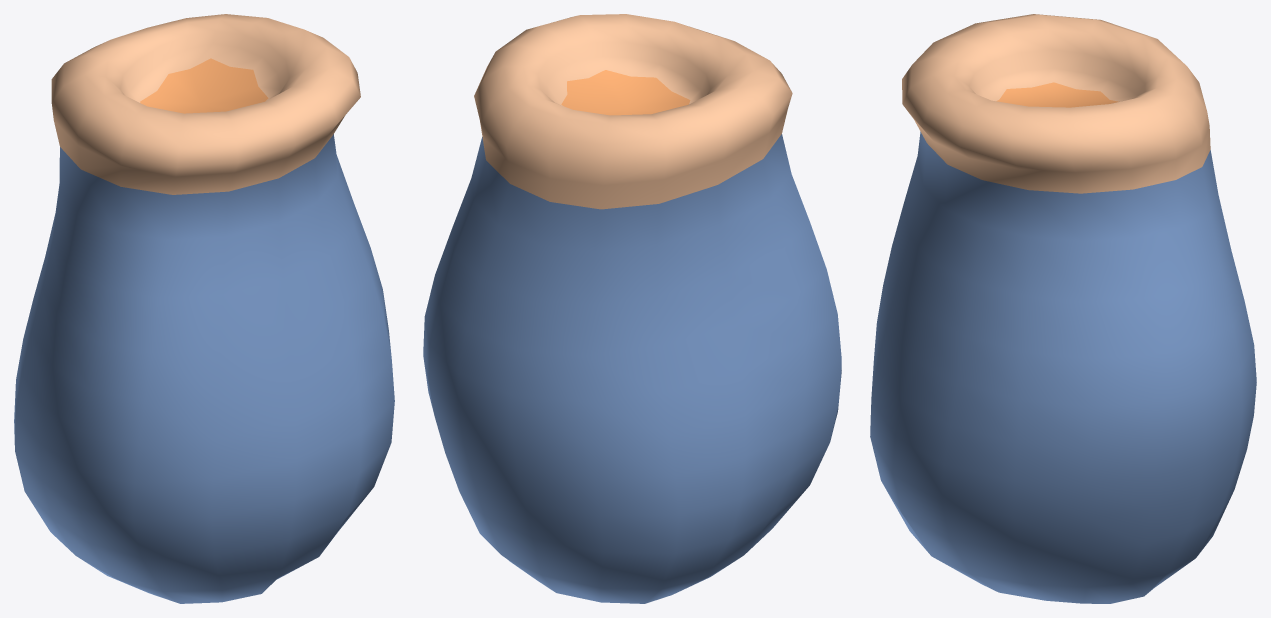
Rendered from Sponge_B_01.fbx.
3 views of the same model, side by side, from view 1: azimuth 30°, elevation 25°; view 2: azimuth 150°, elevation 25°; view 3: azimuth 270°, elevation 25° (orthographic). The views are drawn at different scales.
Visible parts, largest first — view 1: Sponge_B_01_LOD0; view 2: Sponge_B_01_LOD0; view 3: Sponge_B_01_LOD0.
Boxes of the visible parts, x1,y1,x2,y2 form: Sponge_B_01_LOD0: (14, 14, 394, 603); Sponge_B_01_LOD0: (423, 14, 841, 603); Sponge_B_01_LOD0: (870, 14, 1256, 603).
Size of what is drawn, in the model's own units: 252 by 363 by 245.
